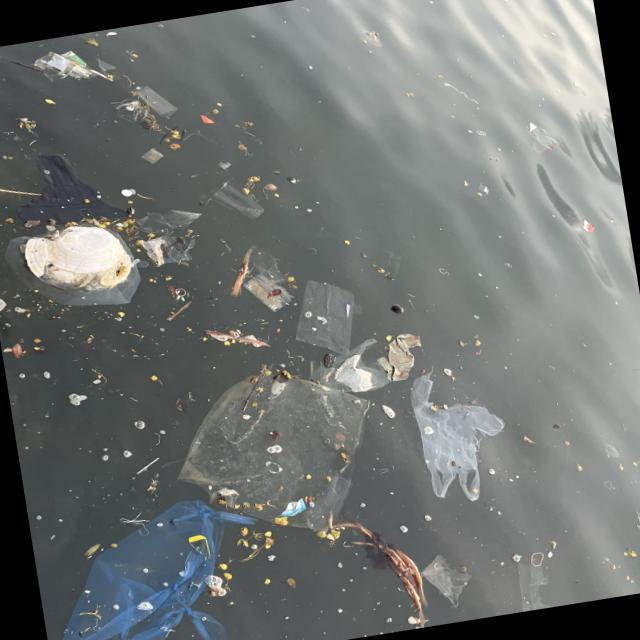foam: (24, 222, 128, 285)
plastic bag: (178, 371, 369, 534), (54, 502, 250, 640), (404, 368, 506, 501)
